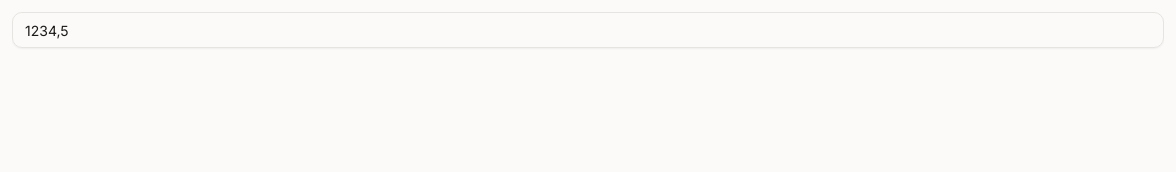
DecimalInput › formata no blur e chama o onBlur recebido
The image size is (1176, 172).
Click the field at coordinates (588, 30), box [12,12,1164,48]
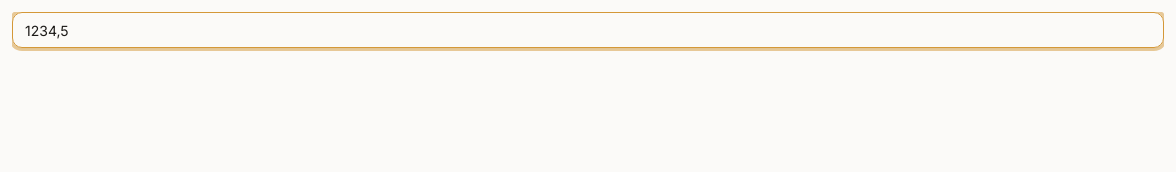
Press Tab
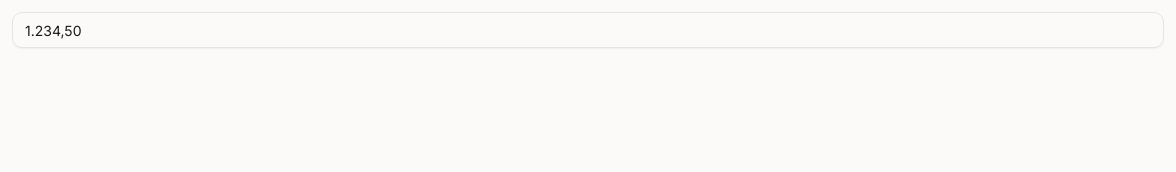
Check: the field holds "1.234,50", box [12,12,1164,48]
